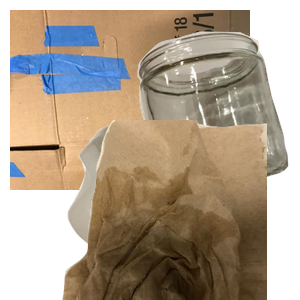cardboard: (10, 10, 250, 190)
glass: (135, 29, 300, 209)
plastic: (65, 123, 257, 300)
trash: (60, 120, 300, 300)
